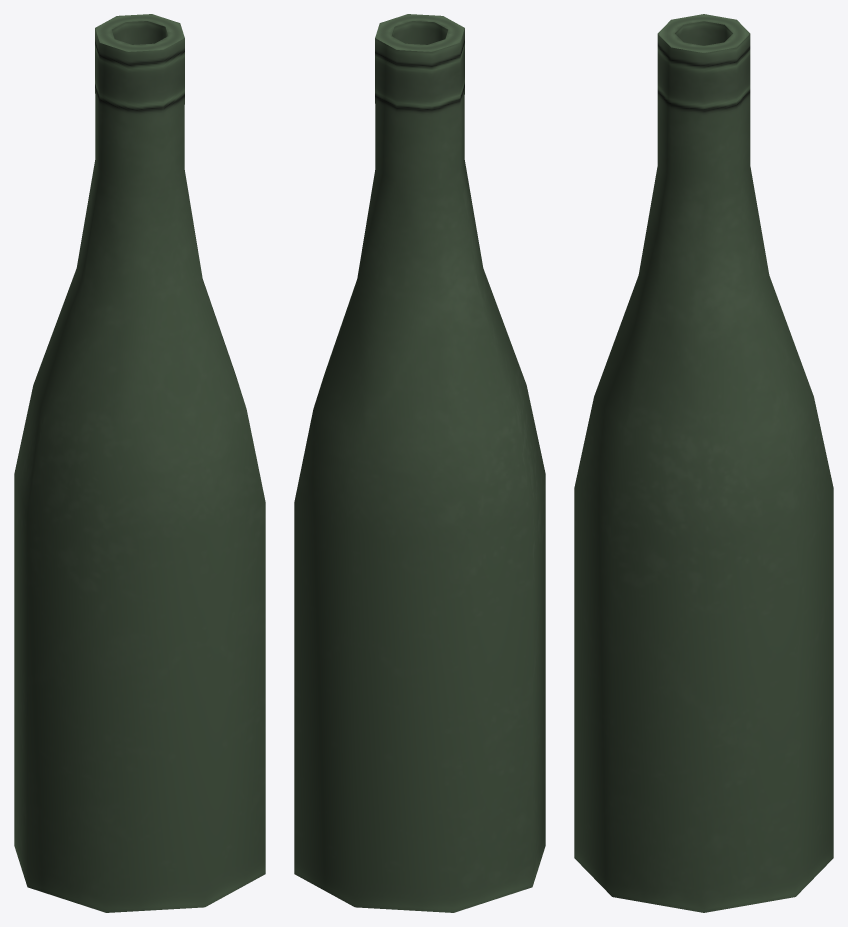
File: LOD1_smallBottle.fbx
3 renders of one model, left to right at view 1: azimuth 30°, elevation 25°; view 2: azimuth 150°, elevation 25°; view 3: azimuth 270°, elevation 25°, orthographic.
Parts seen in each view (by area): view 1: LOD1_smallBottle; view 2: LOD1_smallBottle; view 3: LOD1_smallBottle.
Part boxes in pixels (x1,y1,x2,y2): LOD1_smallBottle: (14,14,265,912); LOD1_smallBottle: (294,14,545,912); LOD1_smallBottle: (574,14,833,912).
Bounding box in the file's own units: 0.0929 × 0.3261 × 0.0929.
